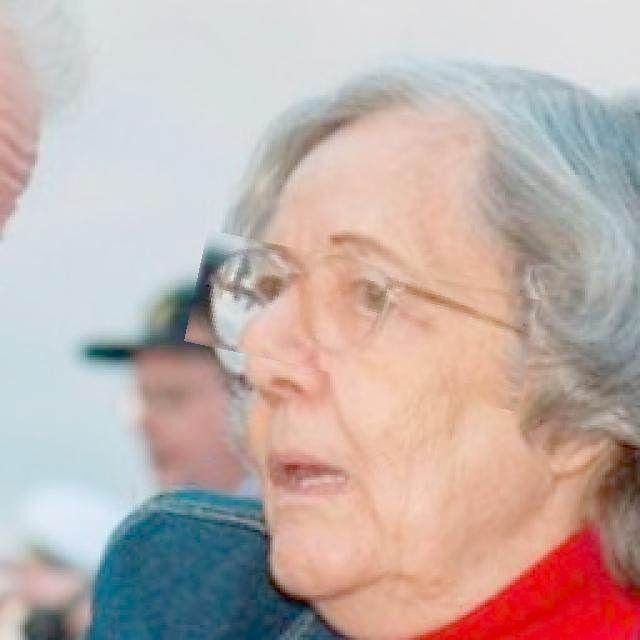glasses: (188, 247, 538, 395)
